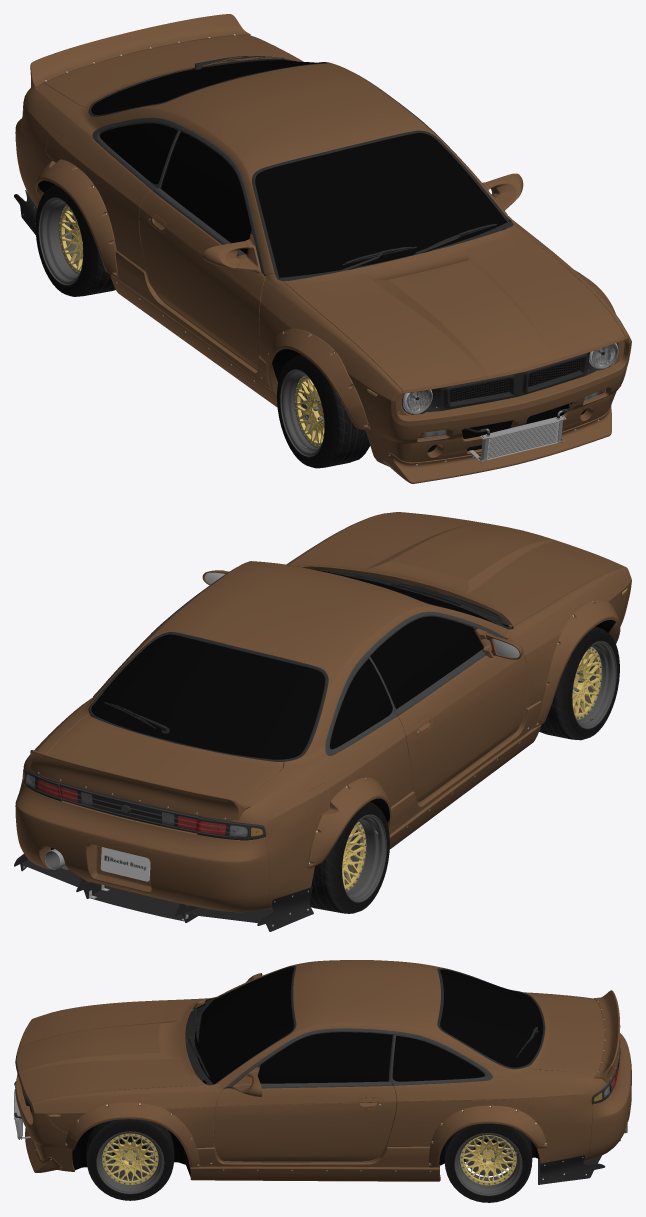
3 renders of one model, top to bottom at view 1: azimuth 30°, elevation 25°; view 2: azimuth 150°, elevation 25°; view 3: azimuth 270°, elevation 25°, orthographic. The views are drawn at different scales.
Visible parts, largest first — view 1: RB:Paint_Geo_lodA_Paint_Geo_lodA_Nissan_240SXRocketBunnyBoss, RB:Window_Geo_lodA_Window_Geo_lodA_Nissan_240SXRocketBunnyBo, RB:Coloured_Geo_lodA_Coloured_Geo_lodA_Nissan_240SXRocketBun, polySurface475, polySurface1427, RB:Base_Geo_lodA_Base_Geo_lodA_Nissan_240SXRocketBunnyBossRe, RB:Grille5_Geo_lodA_Grille5_Geo_lodA_Nissan_240SXRocketBunny, RB:Light_Geo_lodA_Light_Geo_lodA_Nissan_240SXRocketBunnyBoss, RB:Grille1_Geo_lodA_Grille1_Geo_lodA_Nissan_240SXRocketBunny; view 2: RB:Paint_Geo_lodA_Paint_Geo_lodA_Nissan_240SXRocketBunnyBoss, RB:Window_Geo_lodA_Window_Geo_lodA_Nissan_240SXRocketBunnyBo, RB:Coloured_Geo_lodA_Coloured_Geo_lodA_Nissan_240SXRocketBun, polySurface1427, polySurface475, RB:Light_Geo_lodA_Light_Geo_lodA_Nissan_240SXRocketBunnyBoss, RB:ManufacturerPlate_Geo_lodA_ManufacturerPlate_Geo_lodA_Nis; view 3: RB:Paint_Geo_lodA_Paint_Geo_lodA_Nissan_240SXRocketBunnyBoss, RB:Window_Geo_lodA_Window_Geo_lodA_Nissan_240SXRocketBunnyBo, RB:Coloured_Geo_lodA_Coloured_Geo_lodA_Nissan_240SXRocketBun, polySurface1, polySurface949, RB:Base_Geo_lodA_Base_Geo_lodA_Nissan_240SXRocketBunnyBossRe.
Boxes of the visible parts, x1=… form: RB:Paint_Geo_lodA_Paint_Geo_lodA_Nissan_240SXRocketBunnyBoss: x1=15, y1=14, x2=631, y2=483; RB:Window_Geo_lodA_Window_Geo_lodA_Nissan_240SXRocketBunnyBo: x1=22, y1=60, x2=617, y2=439; RB:Coloured_Geo_lodA_Coloured_Geo_lodA_Nissan_240SXRocketBun: x1=14, y1=56, x2=618, y2=465; polySurface475: x1=277, y1=355, x2=370, y2=468; polySurface1427: x1=35, y1=185, x2=115, y2=296; RB:Base_Geo_lodA_Base_Geo_lodA_Nissan_240SXRocketBunnyBossRe: x1=38, y1=131, x2=586, y2=452; RB:Grille5_Geo_lodA_Grille5_Geo_lodA_Nissan_240SXRocketBunny: x1=449, y1=358, x2=581, y2=402; RB:Light_Geo_lodA_Light_Geo_lodA_Nissan_240SXRocketBunnyBoss: x1=367, y1=343, x2=617, y2=438; RB:Grille1_Geo_lodA_Grille1_Geo_lodA_Nissan_240SXRocketBunny: x1=488, y1=422, x2=556, y2=458; RB:Paint_Geo_lodA_Paint_Geo_lodA_Nissan_240SXRocketBunnyBoss: x1=15, y1=512, x2=631, y2=912; RB:Window_Geo_lodA_Window_Geo_lodA_Nissan_240SXRocketBunnyBo: x1=22, y1=568, x2=627, y2=836; RB:Coloured_Geo_lodA_Coloured_Geo_lodA_Nissan_240SXRocketBun: x1=14, y1=562, x2=626, y2=931; polySurface1427: x1=310, y1=802, x2=389, y2=913; polySurface475: x1=539, y1=626, x2=619, y2=740; RB:Light_Geo_lodA_Light_Geo_lodA_Nissan_240SXRocketBunnyBoss: x1=23, y1=588, x2=626, y2=836; RB:ManufacturerPlate_Geo_lodA_ManufacturerPlate_Geo_lodA_Nis: x1=100, y1=847, x2=150, y2=881; RB:Paint_Geo_lodA_Paint_Geo_lodA_Nissan_240SXRocketBunnyBoss: x1=15, y1=960, x2=631, y2=1181; RB:Window_Geo_lodA_Window_Geo_lodA_Nissan_240SXRocketBunnyBo: x1=30, y1=969, x2=618, y2=1116; RB:Coloured_Geo_lodA_Coloured_Geo_lodA_Nissan_240SXRocketBun: x1=14, y1=966, x2=627, y2=1184; polySurface1: x1=86, y1=1119, x2=174, y2=1200; polySurface949: x1=444, y1=1123, x2=532, y2=1202; RB:Base_Geo_lodA_Base_Geo_lodA_Nissan_240SXRocketBunnyBossRe: x1=72, y1=997, x2=608, y2=1176.
Size of the model in its own units: 1.99 by 1.28 by 4.4.
Materials: 23 (15 with a texture image).
